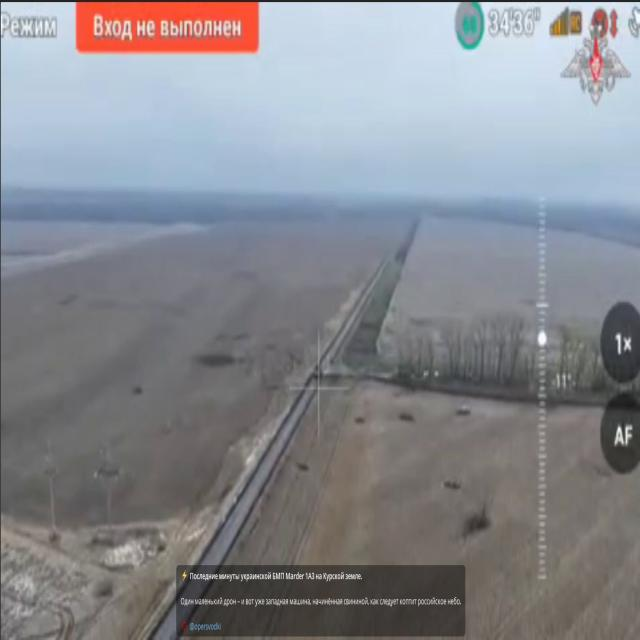vehicle: (452, 395, 476, 432), (441, 470, 466, 504), (308, 360, 331, 390)
